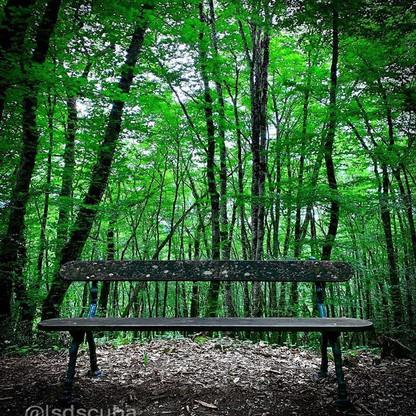obstacle: (37, 257, 381, 382)
